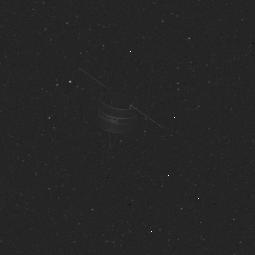double_start: (92, 78, 150, 148)
